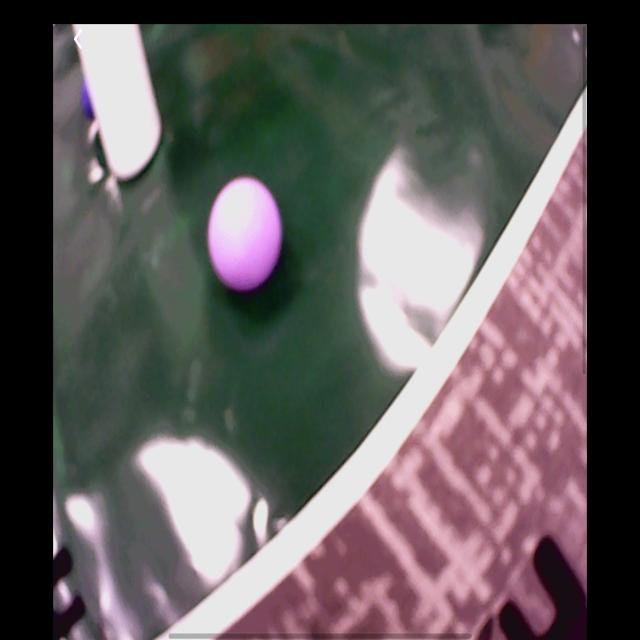ball: (209, 179, 283, 289), (83, 86, 97, 125)
